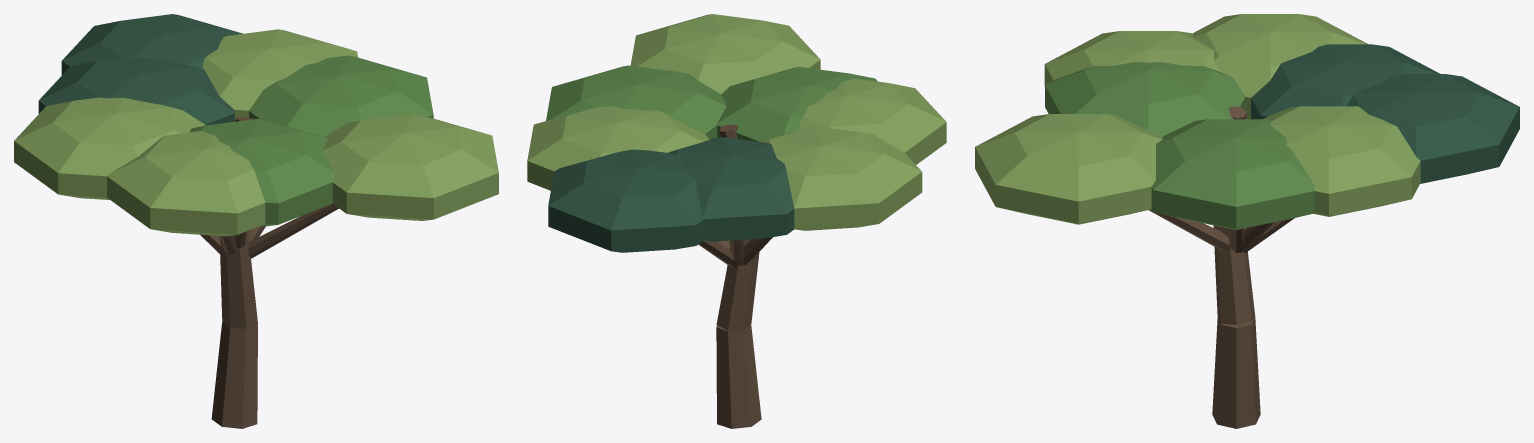
Rendered from nature-acacia.lod0.glb.
3 renders of one model, left to right at view 1: azimuth 30°, elevation 25°; view 2: azimuth 150°, elevation 25°; view 3: azimuth 270°, elevation 25°, orthographic. The views are drawn at different scales.
Parts seen in each view (by area): view 1: nature-acacia__body; view 2: nature-acacia__body; view 3: nature-acacia__body.
Boxes of the visible parts, x1,y1,x2,y2 form: nature-acacia__body: [14, 14, 498, 428]; nature-acacia__body: [527, 14, 946, 428]; nature-acacia__body: [975, 14, 1519, 428].
Bounding box in the file's own units: 5.45 × 4.46 × 6.59.
